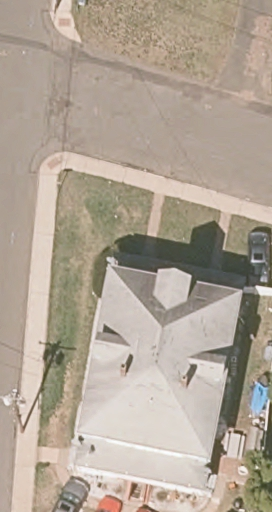DT: (2, 388, 27, 434)
